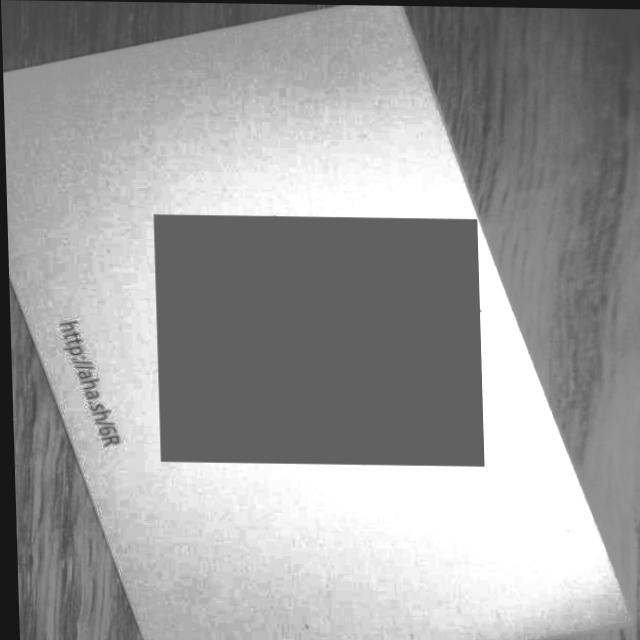qr_code: (152, 215, 481, 464)
